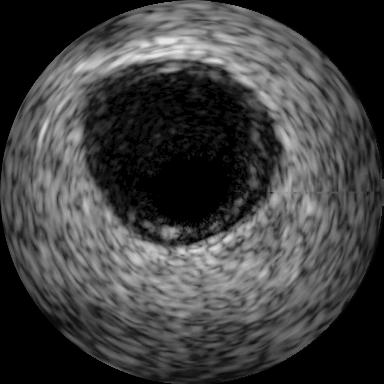Lumen: (148, 149, 232, 226)
